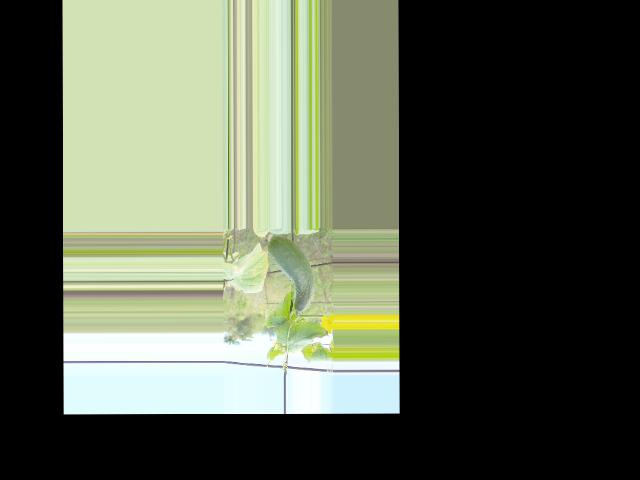cucumber: (267, 236, 314, 313)
